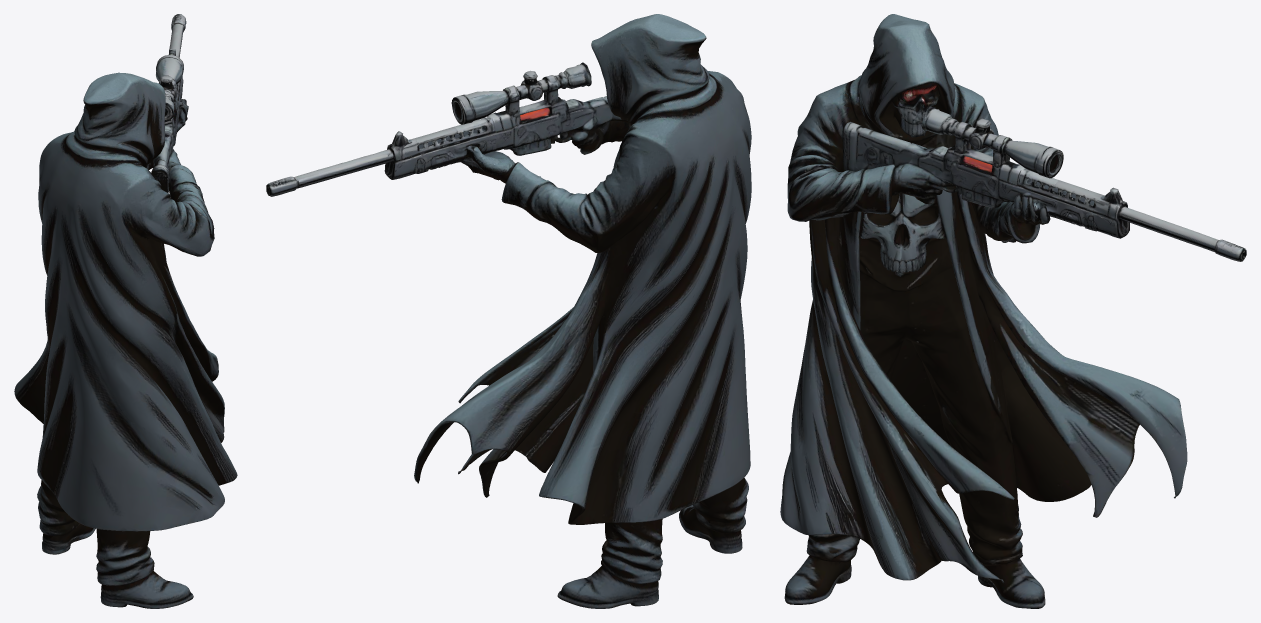
Rendered from reaper.glb.
The picture shows the model from 3 angles, left to right: view 1: azimuth 30°, elevation 25°; view 2: azimuth 150°, elevation 25°; view 3: azimuth 270°, elevation 25°; orthographic projection. The views are drawn at different scales.
Parts seen in each view (by area): view 1: tripo_node_285798e8-43bb-4f4b-b66f-fb70c53728c6; view 2: tripo_node_285798e8-43bb-4f4b-b66f-fb70c53728c6; view 3: tripo_node_285798e8-43bb-4f4b-b66f-fb70c53728c6.
Part boxes in pixels (bbox=[...]): tripo_node_285798e8-43bb-4f4b-b66f-fb70c53728c6: bbox=[14, 14, 237, 608]; tripo_node_285798e8-43bb-4f4b-b66f-fb70c53728c6: bbox=[266, 14, 751, 608]; tripo_node_285798e8-43bb-4f4b-b66f-fb70c53728c6: bbox=[780, 14, 1246, 608].
Size of the model in its own units: 0.5836 by 1 by 0.7377.
Materials: 1 (1 with a texture image).
